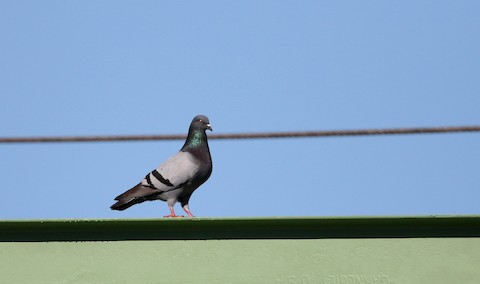pigeon: (110, 111, 217, 217)
